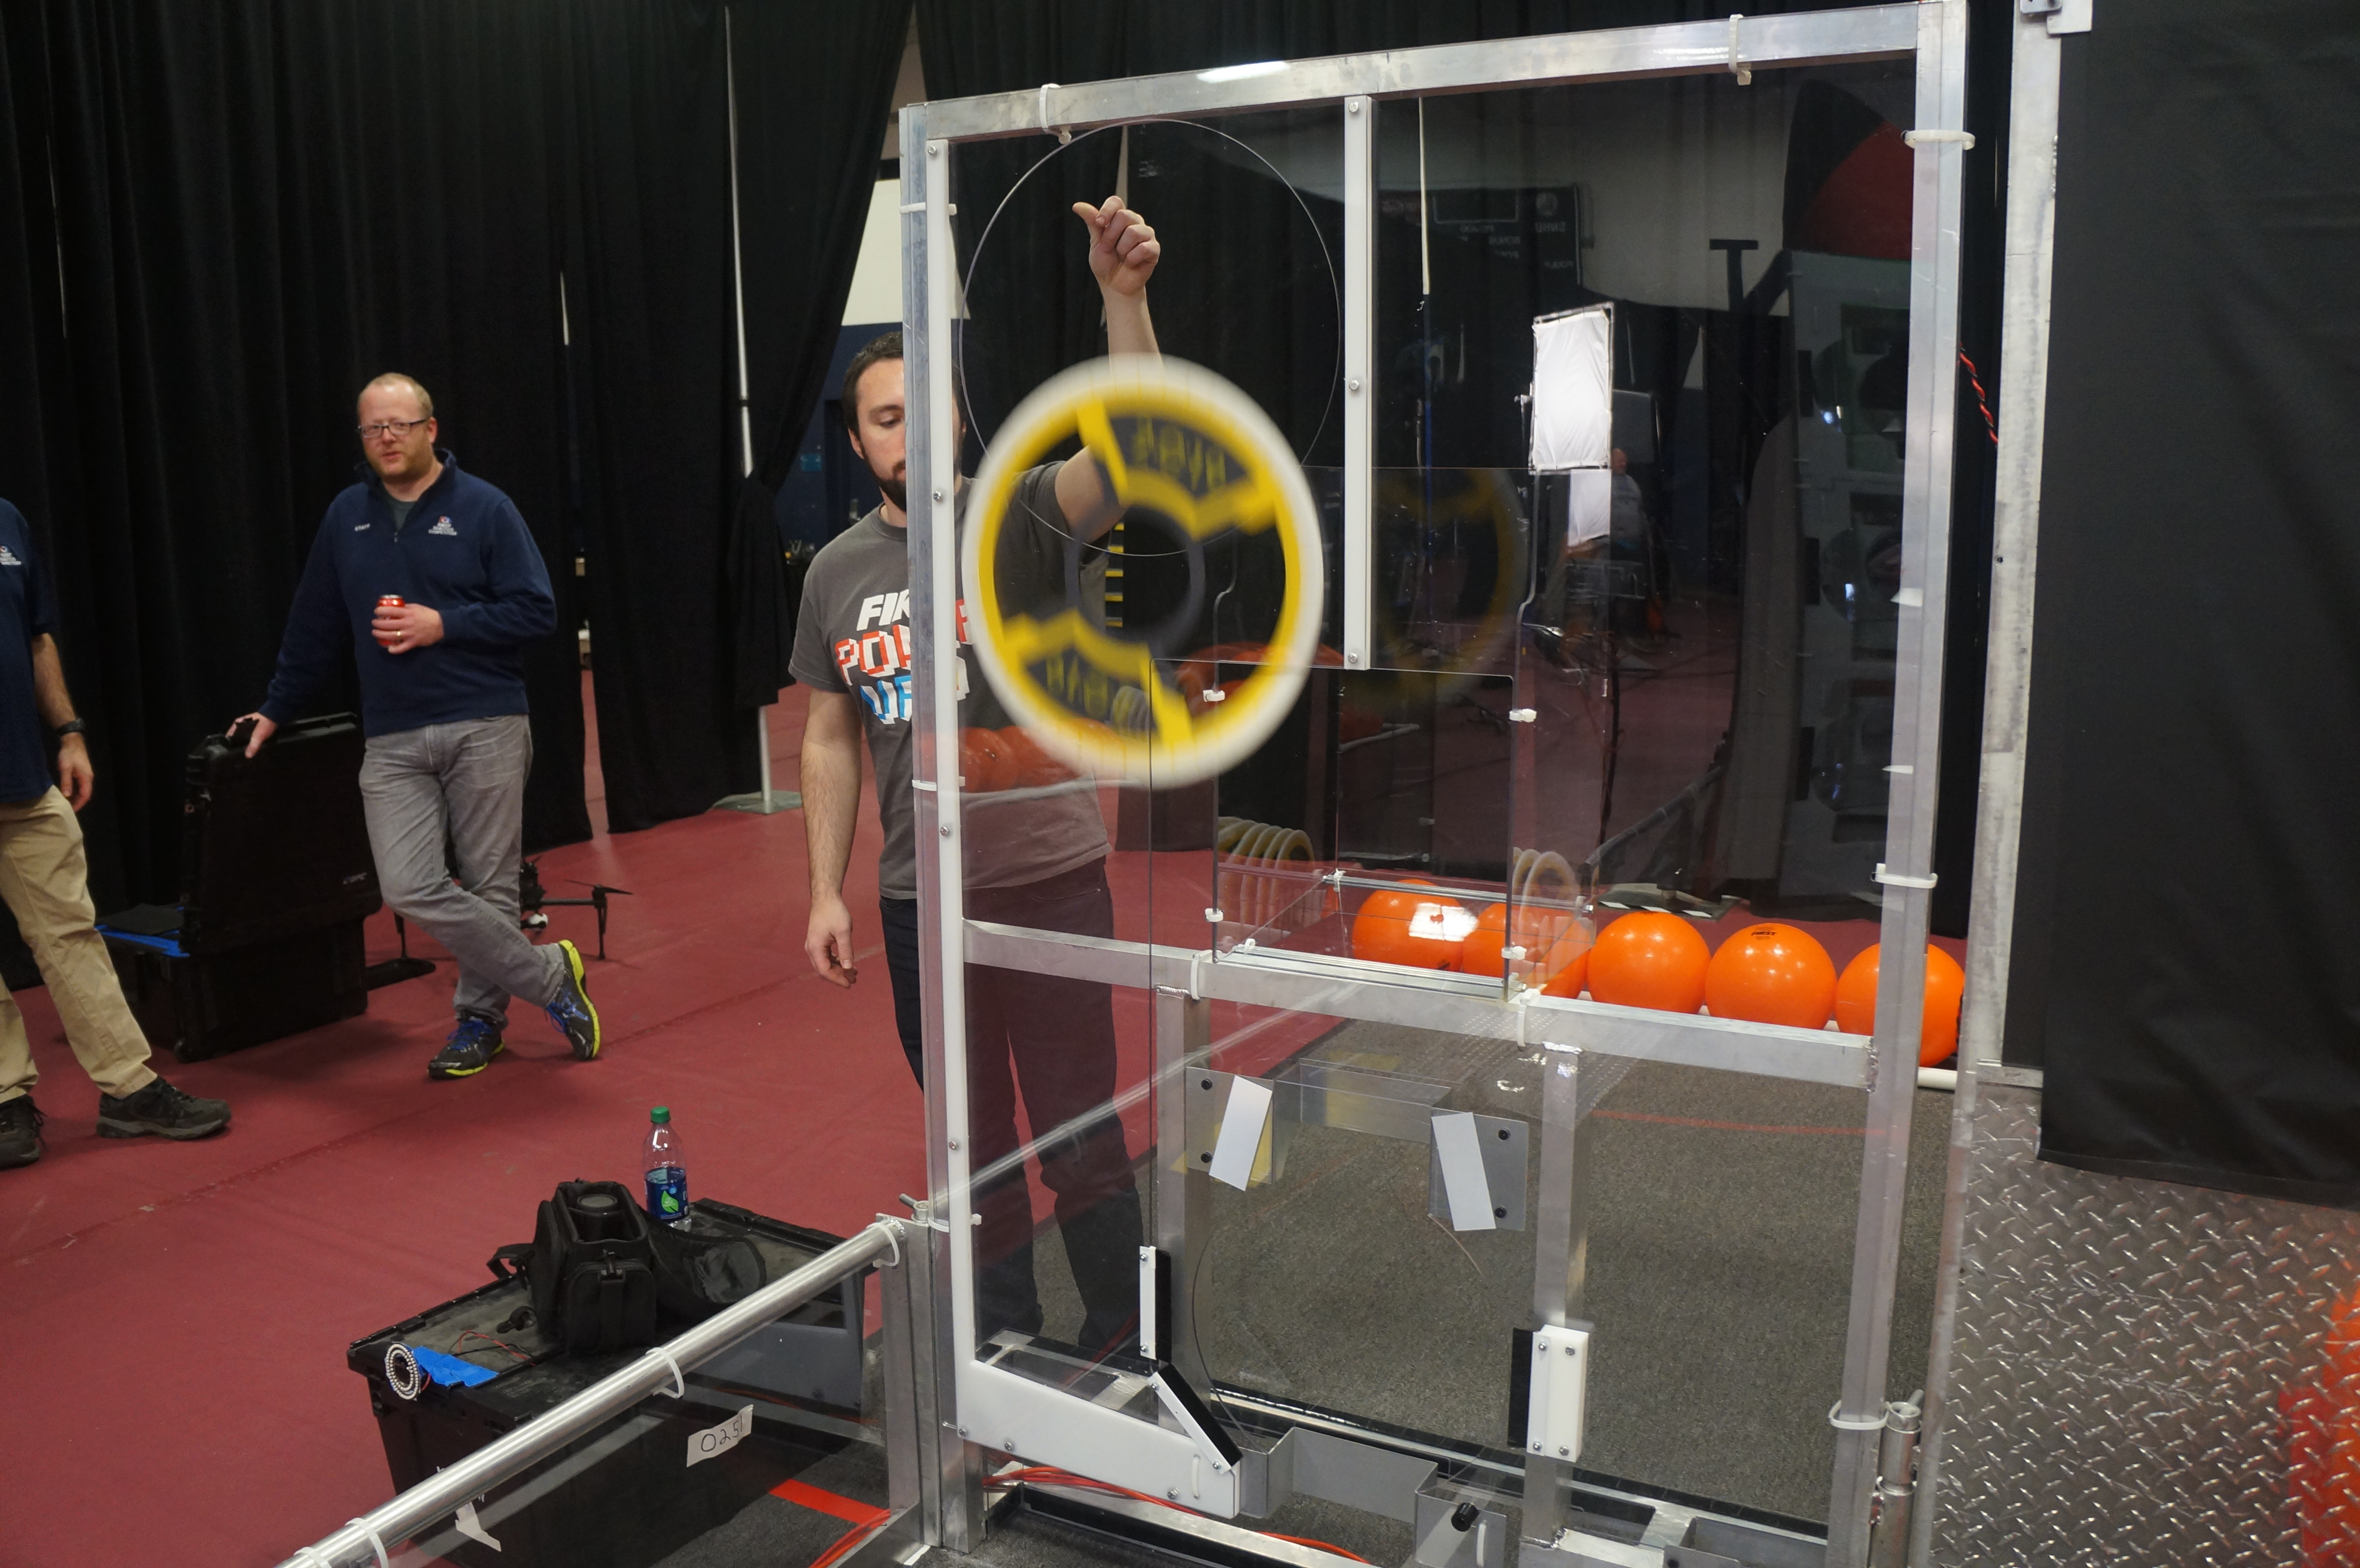Ball: (1835, 924, 1975, 1069), (1706, 919, 1837, 1052), (1587, 905, 1711, 1025), (1349, 870, 1461, 982), (1471, 906, 1587, 1004)
Hatch: (967, 352, 1328, 798)
